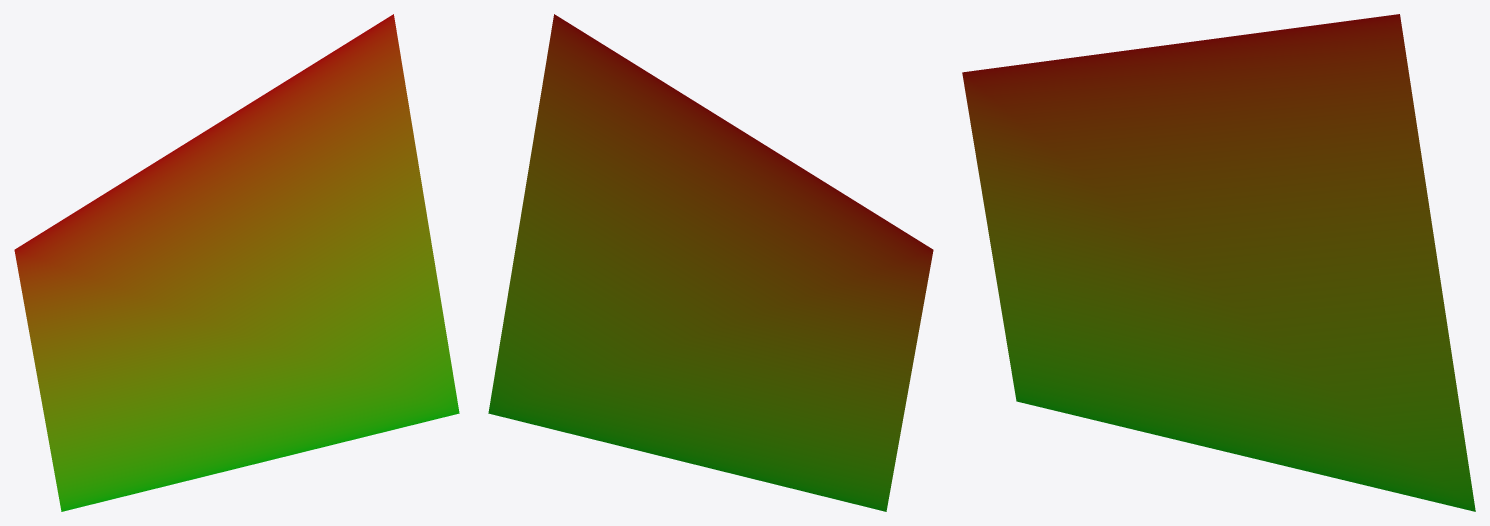
The model's file is Var4_LOD3.fbx.
The picture shows the model from 3 angles, left to right: view 1: azimuth 30°, elevation 25°; view 2: azimuth 150°, elevation 25°; view 3: azimuth 330°, elevation 25°; orthographic projection. The views are drawn at different scales.
Parts seen in each view (by area): view 1: _qvnu_Var4_LOD3; view 2: _qvnu_Var4_LOD3; view 3: _qvnu_Var4_LOD3.
Part boxes in pixels (x1,y1,x2,y2): _qvnu_Var4_LOD3: [14, 14, 459, 511]; _qvnu_Var4_LOD3: [488, 14, 933, 511]; _qvnu_Var4_LOD3: [962, 14, 1475, 511].
Bounding box in the file's own units: 23.68 × 21.19 × 2.53e-06.
